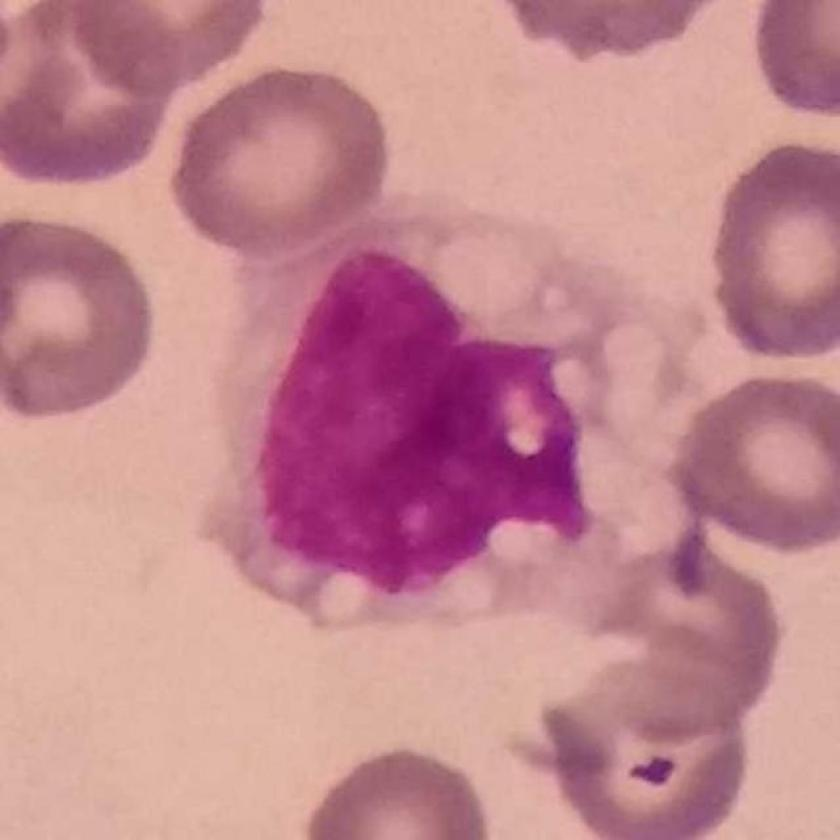monocyte: (199, 184, 726, 637)
